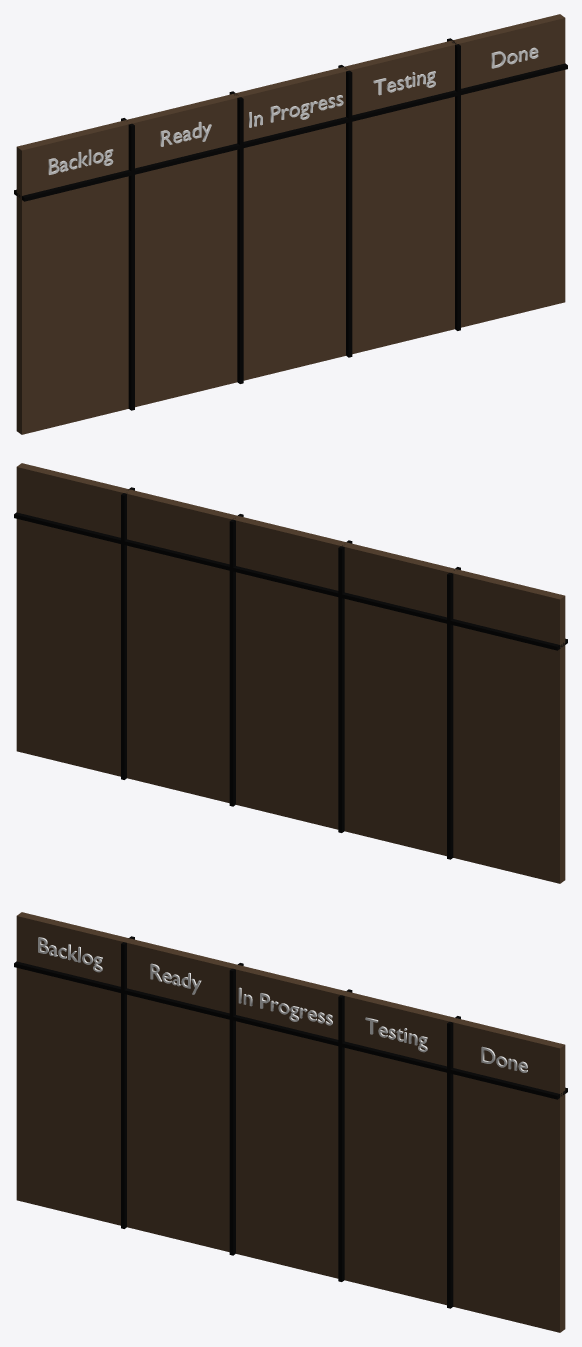
Rendered from kanban-board.glb.
3 views of the same model, one above another, from view 1: azimuth 30°, elevation 25°; view 2: azimuth 150°, elevation 25°; view 3: azimuth 330°, elevation 25° (orthographic).
Parts seen in each view (by area): view 1: Board, Line1.004, Line1.001, Line1, Line1.002, Line1.003, In Progress, Backlog, Done.001; view 2: Board, Line1.004, Line1.001, Line1.002, Line1, Line1.003; view 3: Board, Line1.004, Line1, Line1.003, Line1.001, Line1.002, In Progress, Backlog, Done.001.
Part boxes in pixels (left/top/right/bottom): Board: left=16, top=14, right=565, bottom=434; Line1.004: left=14, top=63, right=567, bottom=201; Line1.001: left=229, top=91, right=243, bottom=383; Line1: left=338, top=65, right=352, bottom=357; Line1.002: left=121, top=118, right=134, bottom=410; Line1.003: left=447, top=38, right=460, bottom=330; In Progress: left=249, top=95, right=343, bottom=127; Backlog: left=48, top=149, right=113, bottom=174; Done.001: left=373, top=71, right=435, bottom=95; Board: left=16, top=463, right=565, bottom=883; Line1.004: left=14, top=512, right=567, bottom=650; Line1.001: left=338, top=540, right=352, bottom=832; Line1.002: left=447, top=567, right=460, bottom=859; Line1: left=229, top=514, right=243, bottom=806; Line1.003: left=121, top=487, right=134, bottom=779; Board: left=16, top=912, right=565, bottom=1332; Line1.004: left=14, top=961, right=567, bottom=1099; Line1: left=338, top=989, right=352, bottom=1281; Line1.003: left=447, top=1016, right=460, bottom=1308; Line1.001: left=229, top=963, right=243, bottom=1255; Line1.002: left=121, top=936, right=134, bottom=1228; In Progress: left=238, top=987, right=332, bottom=1025; Backlog: left=38, top=937, right=102, bottom=972; Done.001: left=365, top=1017, right=427, bottom=1052.
Size of the model in its own units: 6 by 3 by 0.21.
